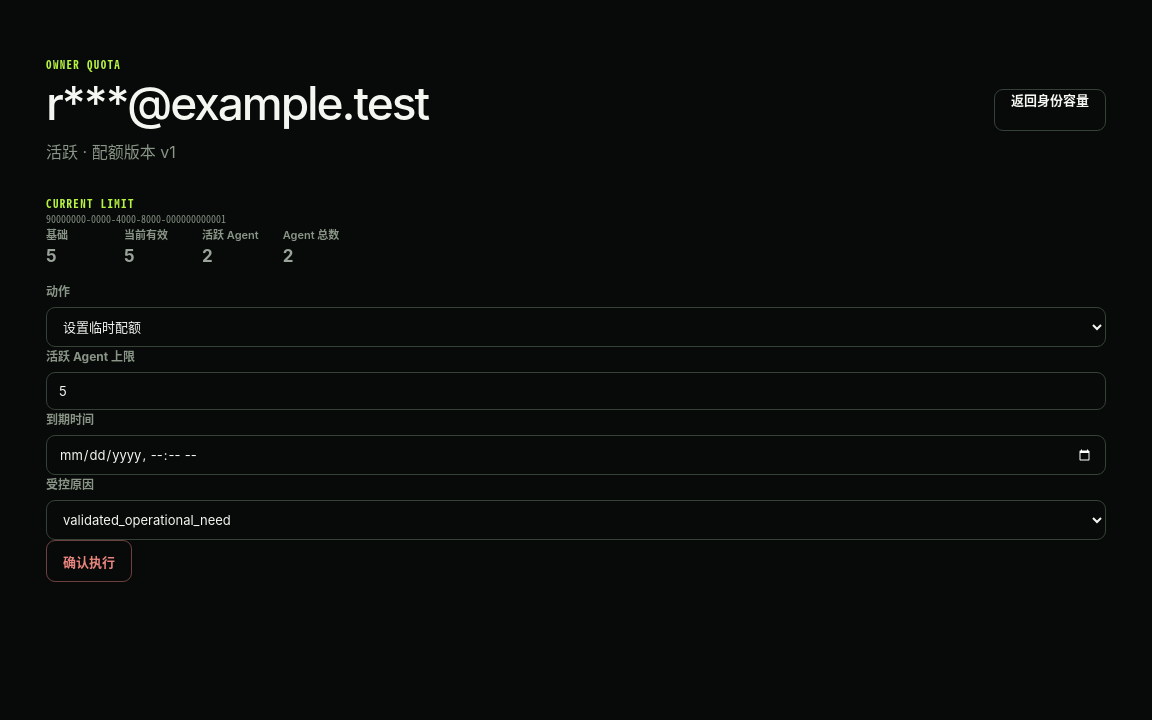
Test: Admin Owner capacity workspace › submits a versioned Owner quota command and refreshes authority
The width and height of the screenshot is (1152, 720).
Replace the text in the number field labelled "活跃 Agent 上限" with "10": (576, 391) [46, 372, 1106, 410]
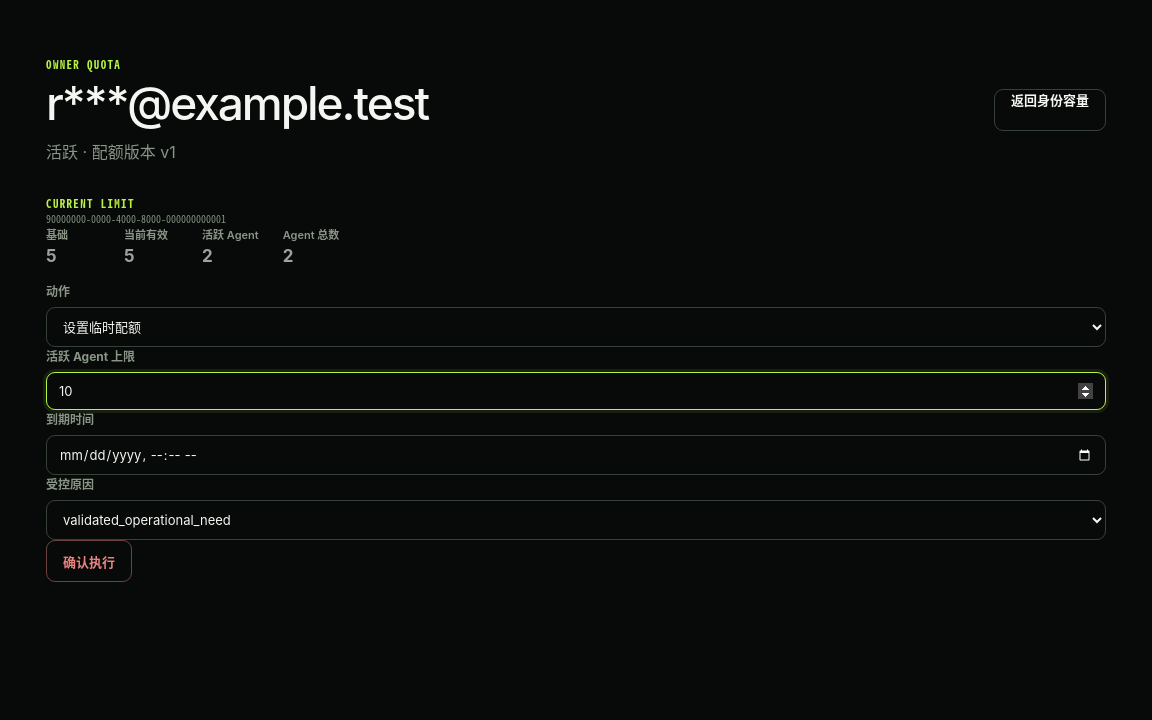
In the field labelled "到期时间": (576, 455) [46, 435, 1106, 475], type "2026-07-25T18:20"
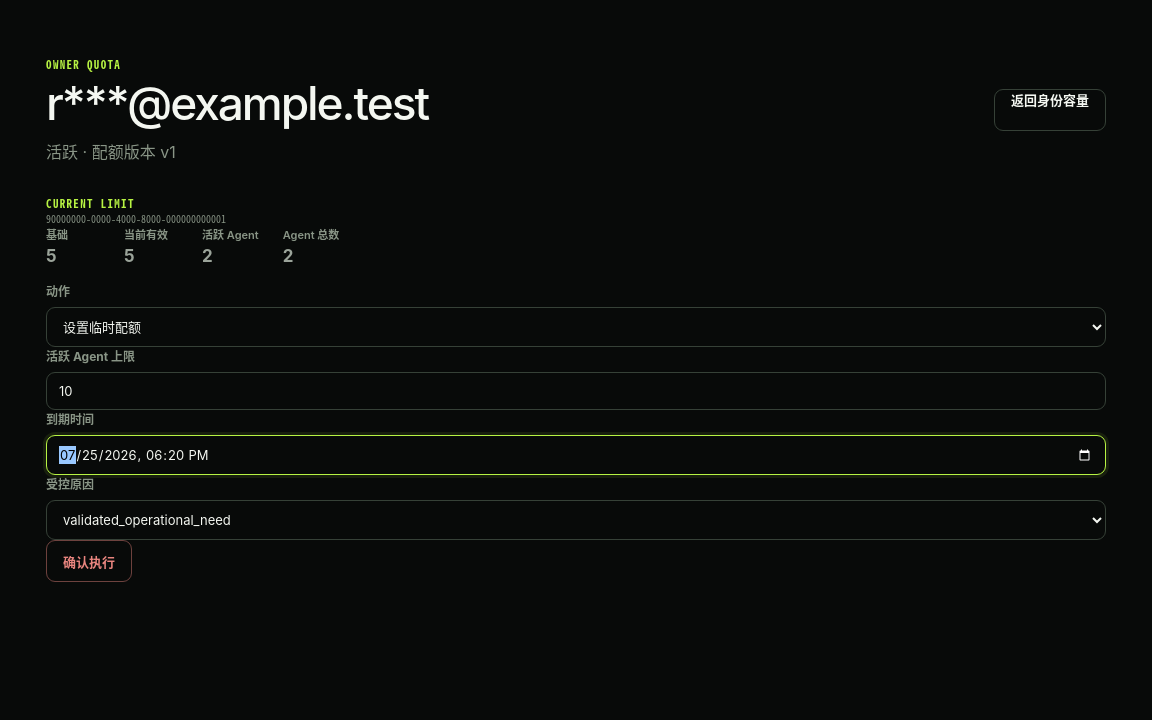
Select "research_team_expansion" in the dropdown labelled "受控原因": (576, 520) [46, 500, 1106, 540]
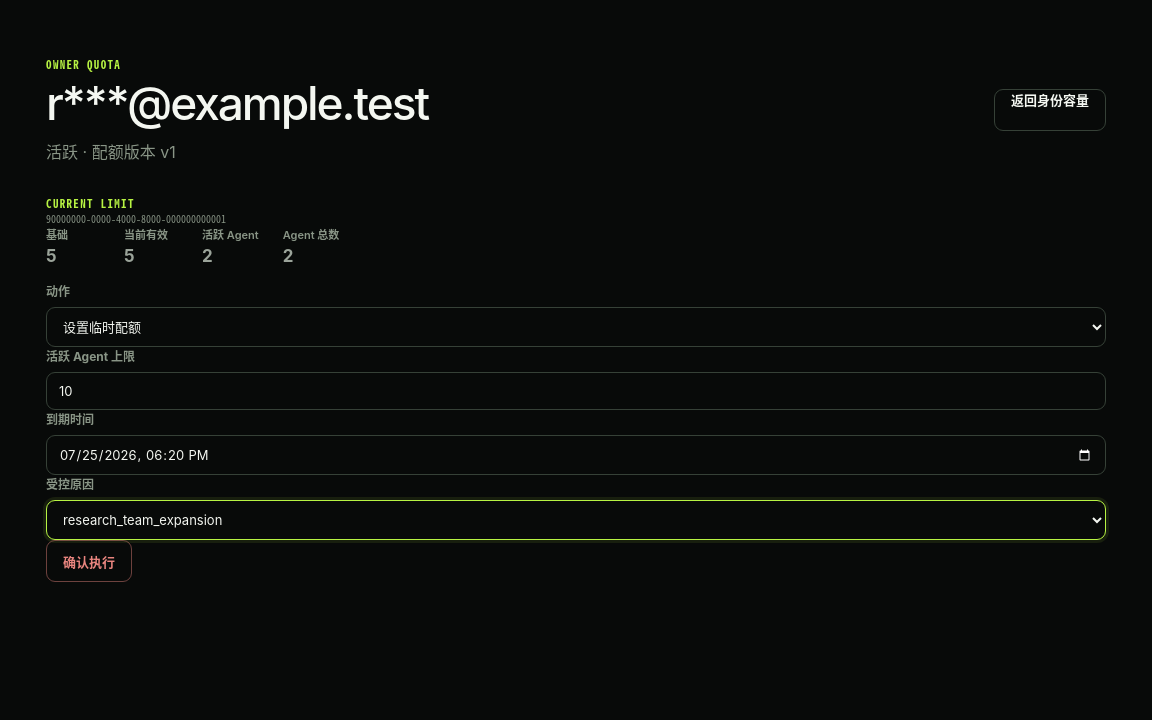
Click the button "确认执行": (89, 561) [46, 540, 132, 582]
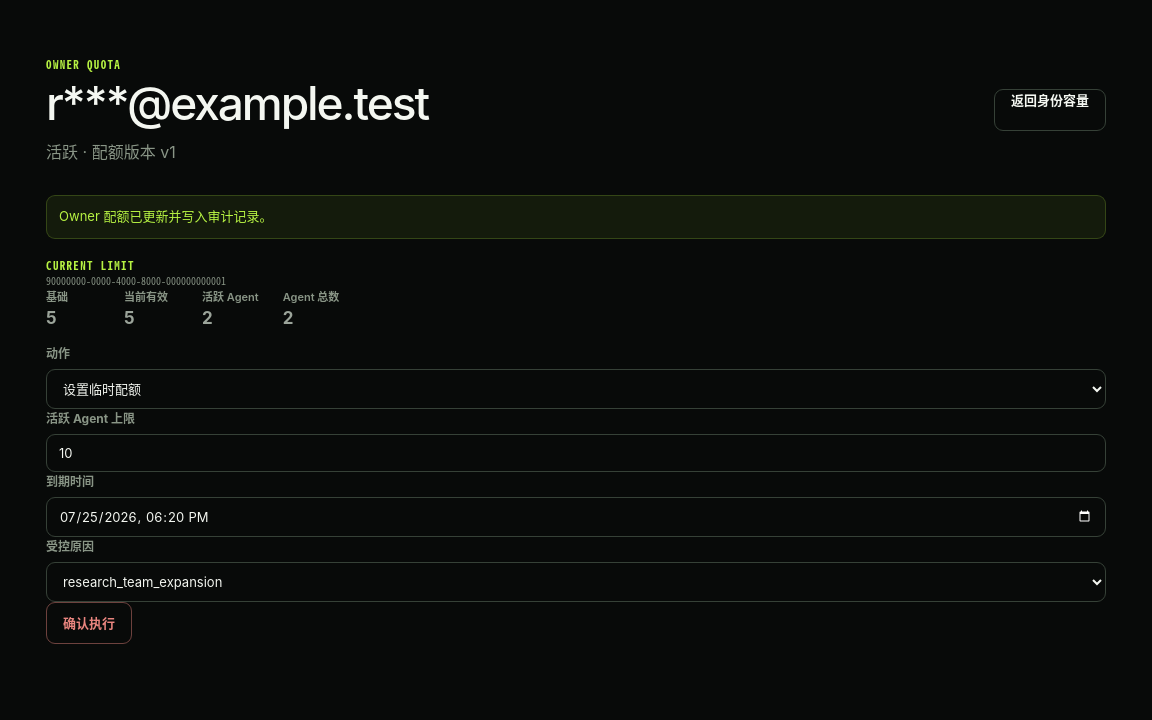
Check: the text "Owner 配额已更新并写入审计记录。" is shown, box [46, 195, 1106, 239]
